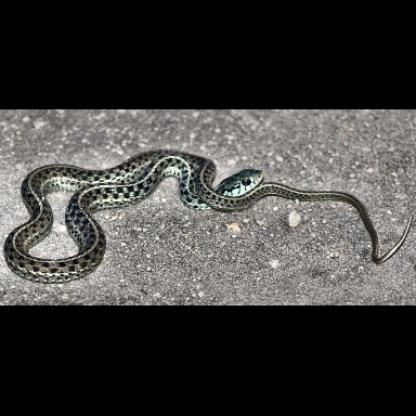Snake: (3, 138, 281, 286)
